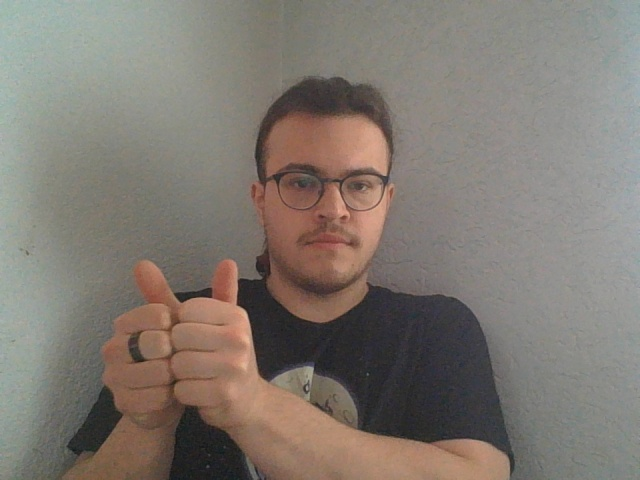Agree: (99, 259, 265, 433)
